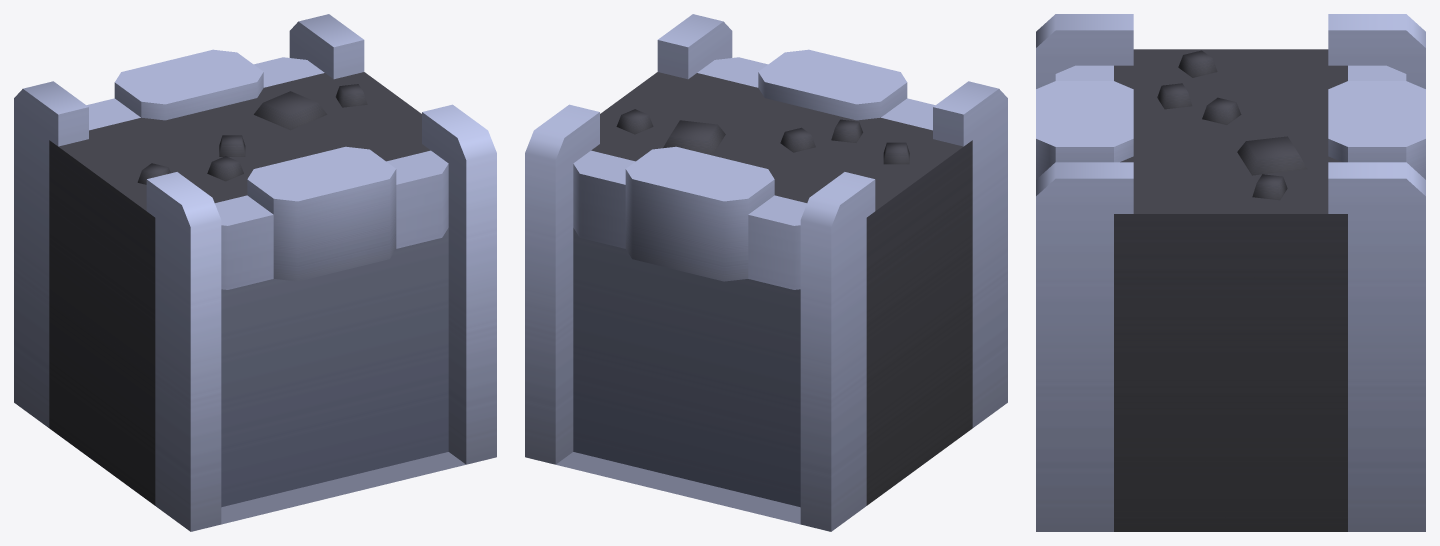
Rendered from wall-narrow.fbx.
3 renders of one model, left to right at view 1: azimuth 30°, elevation 25°; view 2: azimuth 150°, elevation 25°; view 3: azimuth 270°, elevation 25°, orthographic. The views are drawn at different scales.
Visible parts, largest first — view 1: wall-narrow; view 2: wall-narrow; view 3: wall-narrow.
Part boxes in pixels (x1=…): wall-narrow: x1=14, y1=14, x2=496, y2=531; wall-narrow: x1=525, y1=14, x2=1007, y2=531; wall-narrow: x1=1036, y1=14, x2=1425, y2=531.
Bounding box in the file's own units: 100 × 100 × 100.
